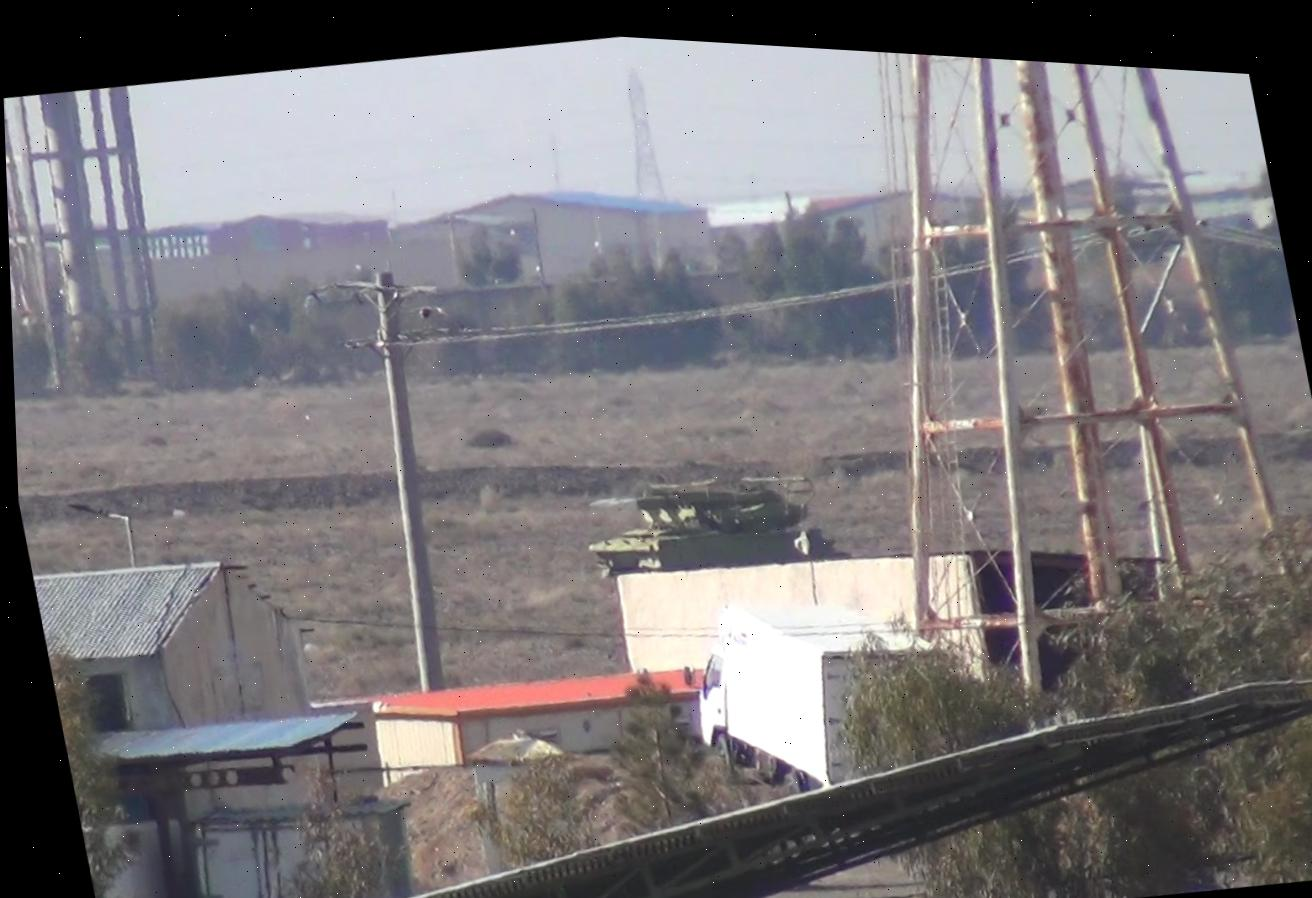armored_car: (562, 438, 841, 598)
